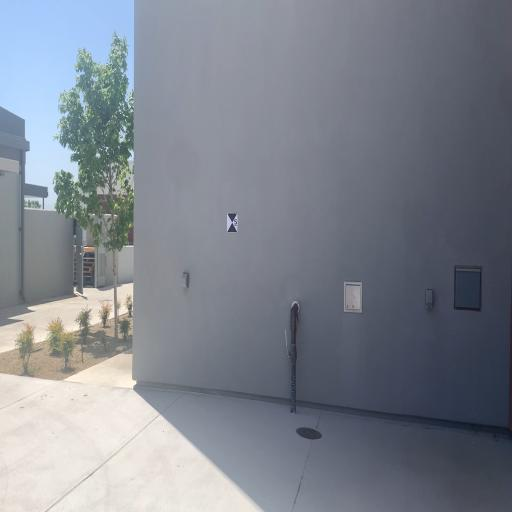target5: (227, 212, 238, 234)
